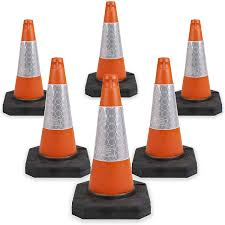cones: (70, 75, 155, 220), (133, 56, 199, 180), (27, 57, 90, 181), (86, 2, 138, 101), (175, 14, 224, 118), (3, 20, 50, 119)
